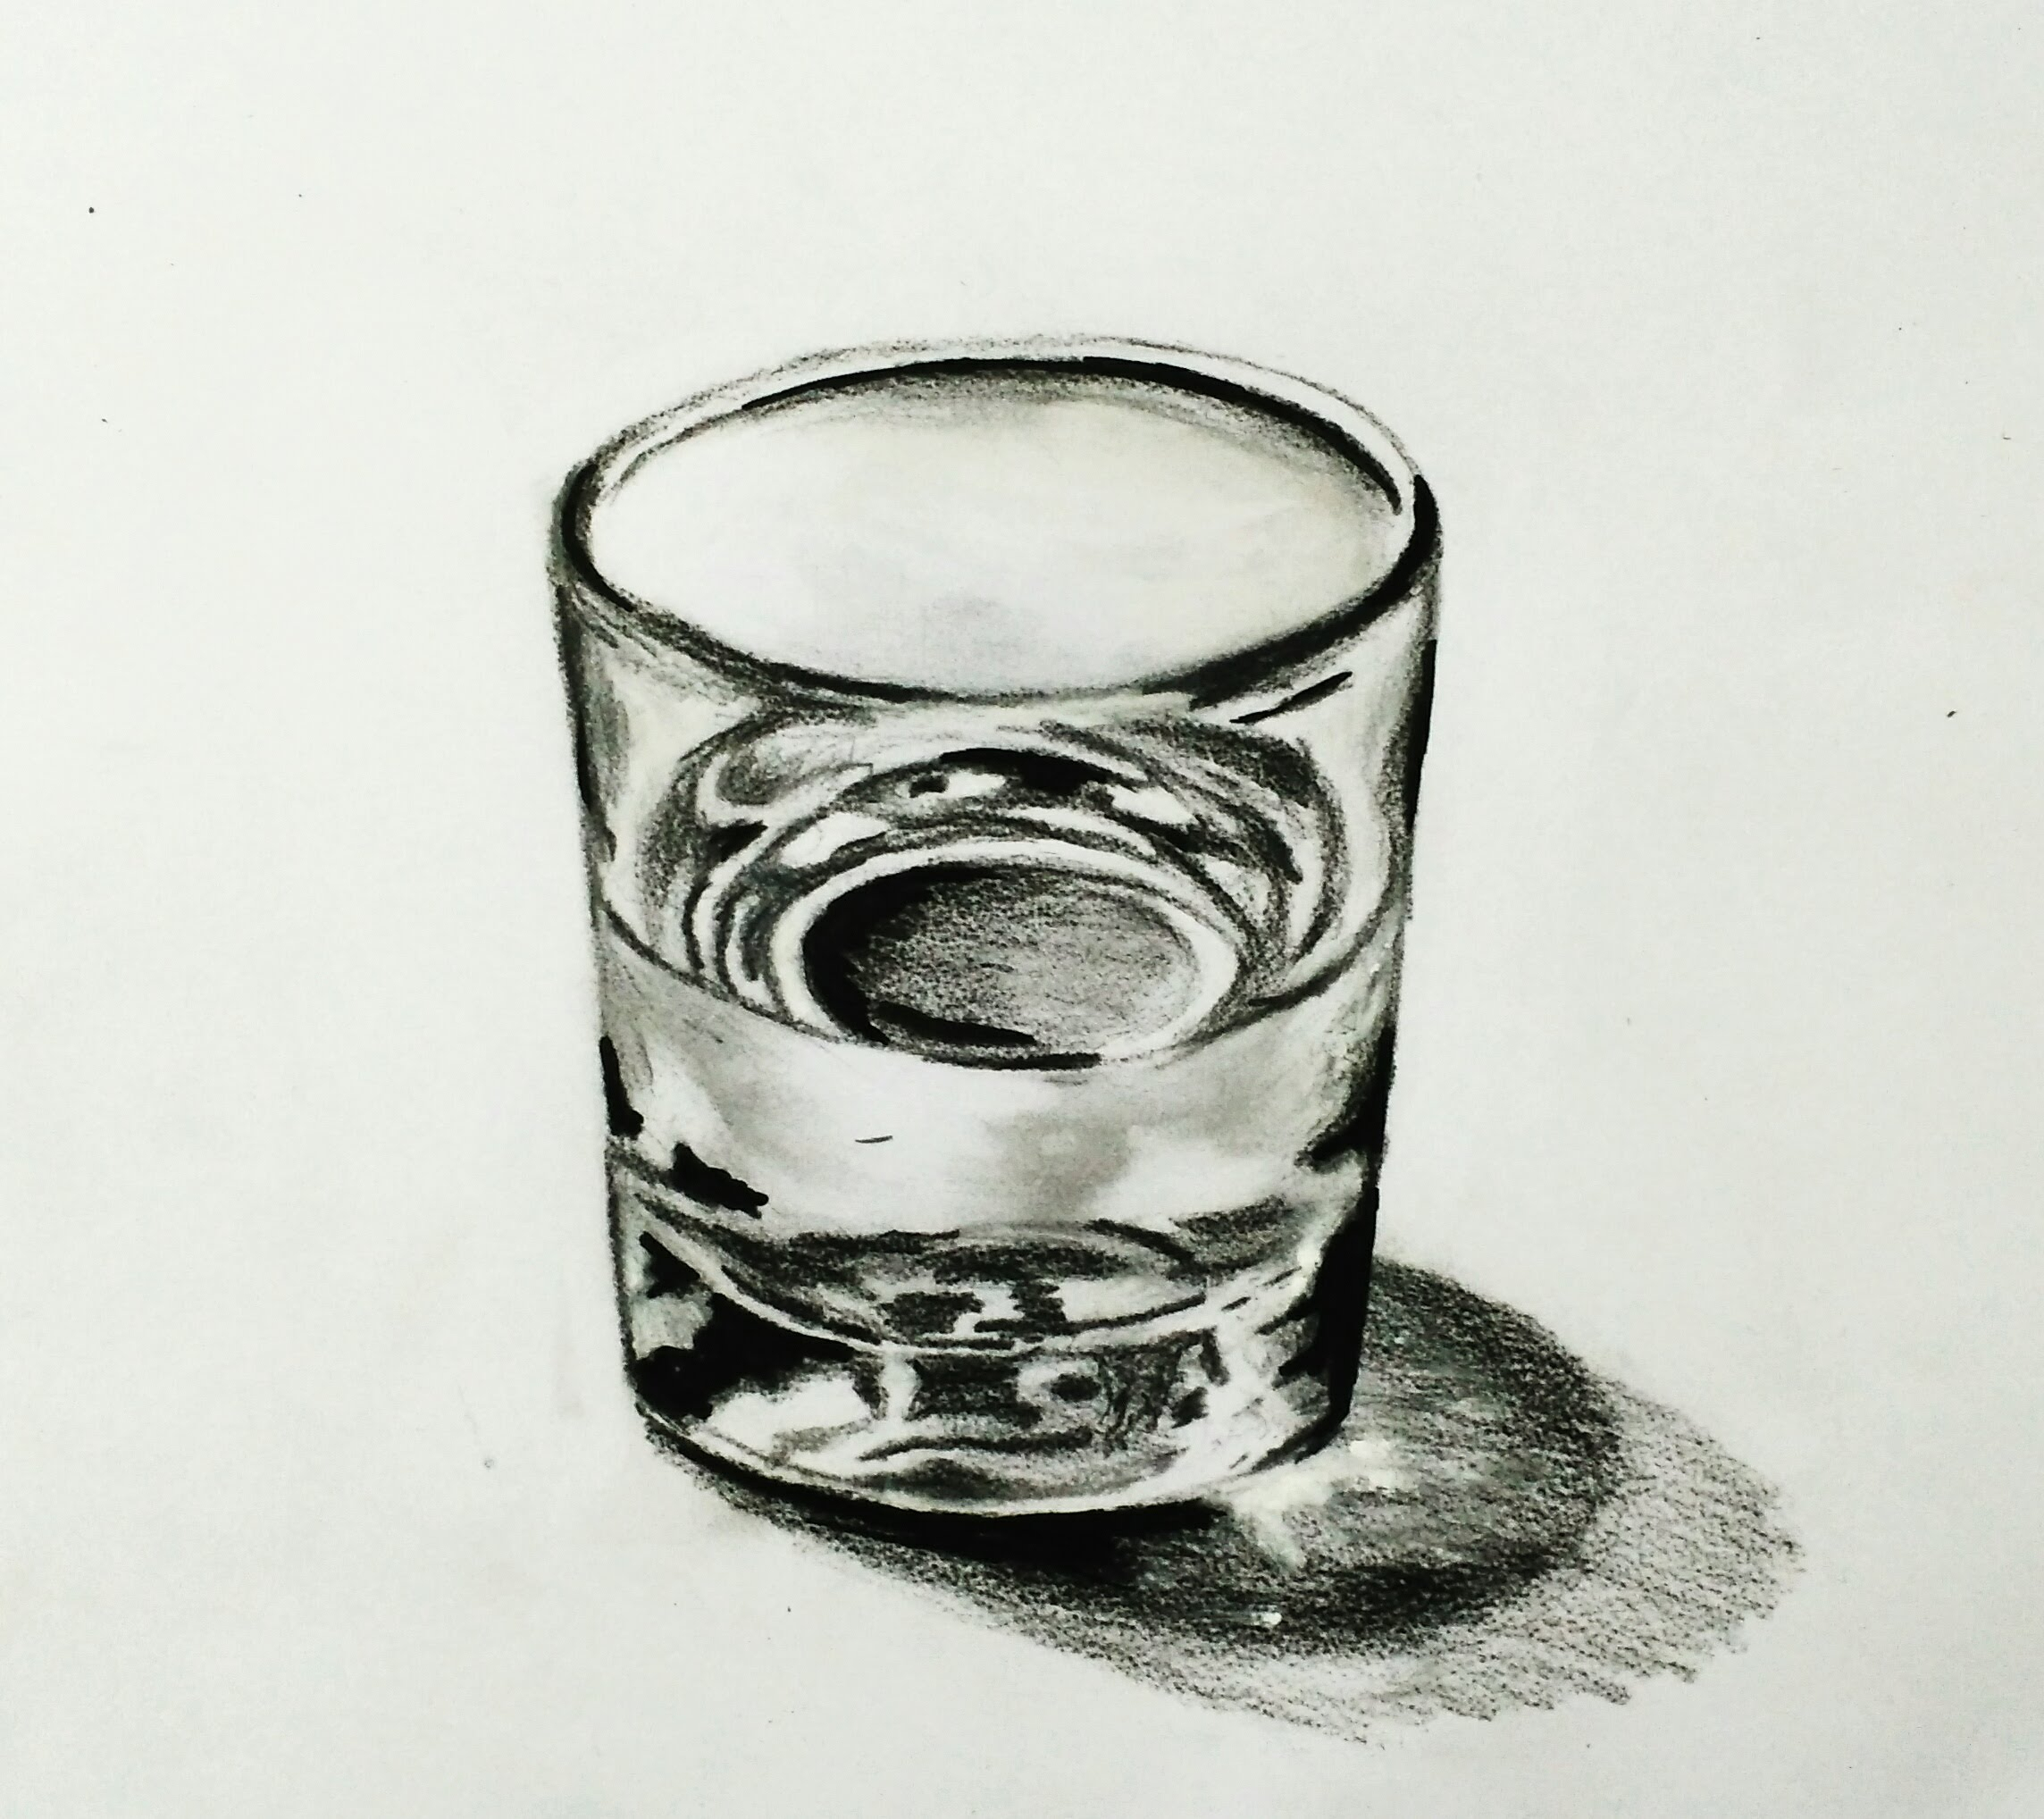glass of water: (585, 474, 1389, 1550)
